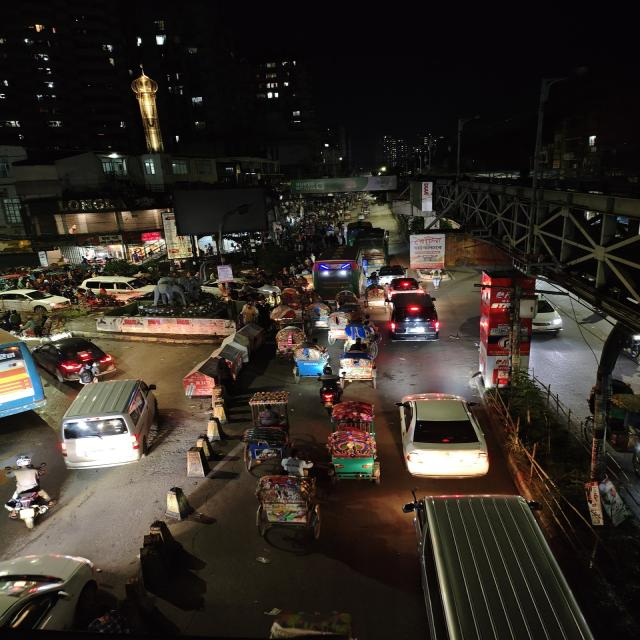bus: (0, 321, 45, 424), (308, 245, 361, 283), (354, 227, 392, 266)
car: (400, 491, 573, 640), (58, 375, 163, 472), (393, 390, 491, 484), (0, 550, 105, 630), (36, 336, 118, 378), (384, 290, 445, 344), (0, 287, 75, 314), (83, 276, 152, 303), (531, 294, 566, 337), (384, 276, 427, 294), (373, 266, 410, 286)
motorcycle: (0, 459, 54, 529), (316, 372, 344, 408)
rickshaw: (250, 455, 325, 542), (239, 386, 295, 472), (324, 429, 386, 486), (290, 341, 332, 381), (18, 311, 71, 341), (339, 348, 379, 387), (332, 399, 376, 431), (344, 314, 379, 349), (303, 300, 336, 336), (271, 326, 303, 360), (331, 289, 362, 323), (363, 278, 386, 309), (278, 286, 304, 310), (271, 304, 299, 326)
